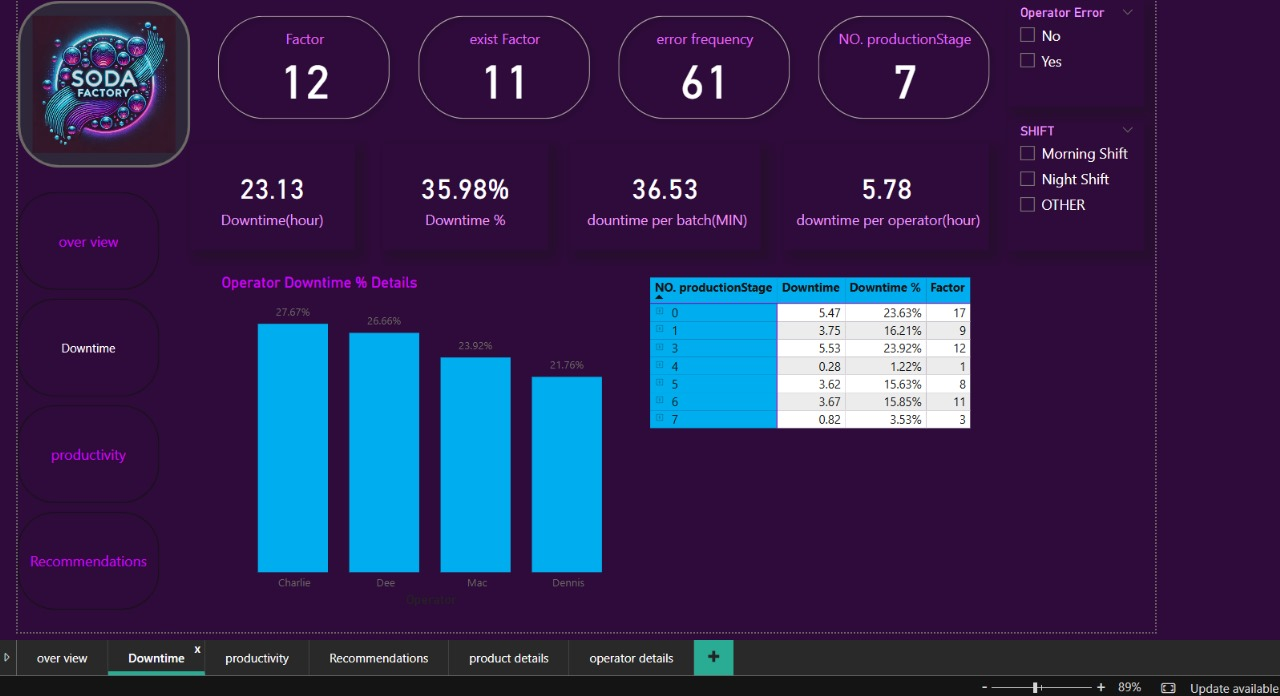

The dashboard page shown, as its layout file describes it:
{"tool":"powerbi","page":{"name":"Downtime ","canvas":[1280,720],"ordinal":1},"visuals":[{"type":"actionButton","box":[0,8.7,194.1,187.8],"z":0},{"type":"cardVisual","fields":{"Data":["Downtime factors.Factor","Min(Line downtime.Factor)1","Line downtime.Factor","Downtime factors.Custom"]},"box":[209,8.7,905.6,150.5],"z":1000},{"type":"card","fields":{"Values":["A Descriptive analysis.AVG dountime per batch"]},"box":[620.7,169.2,215.2,120.7],"z":2000},{"type":"card","fields":{"Values":["A  Downtime factor analysis.downtime"]},"box":[194.1,169.2,185.3,120.7],"z":3000},{"type":"slicer","fields":{"Values":["Downtime factors.Operator Error"]},"box":[1114.6,8.7,153,119.4],"z":4000},{"type":"pageNavigator","box":[0,223.9,159.2,473.9],"z":5000},{"type":"card","fields":{"Values":["A Descriptive analysis.AVG downtime per operator"]},"box":[862.1,169.2,230.1,120.7],"z":6000},{"type":"pivotTable","fields":{"Rows":["Downtime factors.NO. productionStage ","Downtime factors.productionStageDescription","Downtime factors.Description"],"Values":["A Total.Downtime","Divide(A Total.Downtime, ScopedEval(A Total.Downtime, []))","Line downtime.Factor"]},"box":[706.6,316,573.5,380.7],"z":7000},{"type":"slicer","fields":{"Values":["Line productivity.SHIFT"]},"box":[1114.6,141.8,153,148],"z":8000},{"type":"clusteredColumnChart","title":"Operator Downtime % Details","fields":{"Category":["Line productivity.Operator"],"Y":["Divide(A Total.Downtime, ScopedEval(A Total.Downtime, []))"]},"box":[223.9,316,482.7,380.7],"z":9000},{"type":"card","fields":{"Values":["A Total.Downtime %"]},"box":[410.5,169.2,186.6,120.7],"z":10000}]}

Visuals, with their boxes on the page's 1280x720 design canvas (x1, y1, x2, y2). These are canvas units, not pixel positions in the 1280x696 screenshot, which may show the page scaled, cropped or inside an application window:
actionButton: x1=0 y1=9 x2=194 y2=196
cardVisual - Downtime factors.Factor x Min(Line downtime.Factor)1: x1=209 y1=9 x2=1115 y2=159
card - A Descriptive analysis.AVG dountime per batch: x1=621 y1=169 x2=836 y2=290
card - A  Downtime factor analysis.downtime: x1=194 y1=169 x2=379 y2=290
slicer - Downtime factors.Operator Error: x1=1115 y1=9 x2=1268 y2=128
pageNavigator: x1=0 y1=224 x2=159 y2=698
card - A Descriptive analysis.AVG downtime per operator: x1=862 y1=169 x2=1092 y2=290
pivotTable - Downtime factors.NO. productionStage  x Downtime factors.productionStageDescription: x1=707 y1=316 x2=1280 y2=697
slicer - Line productivity.SHIFT: x1=1115 y1=142 x2=1268 y2=290
"Operator Downtime % Details" clusteredColumnChart: x1=224 y1=316 x2=707 y2=697
card - A Total.Downtime %: x1=410 y1=169 x2=597 y2=290
